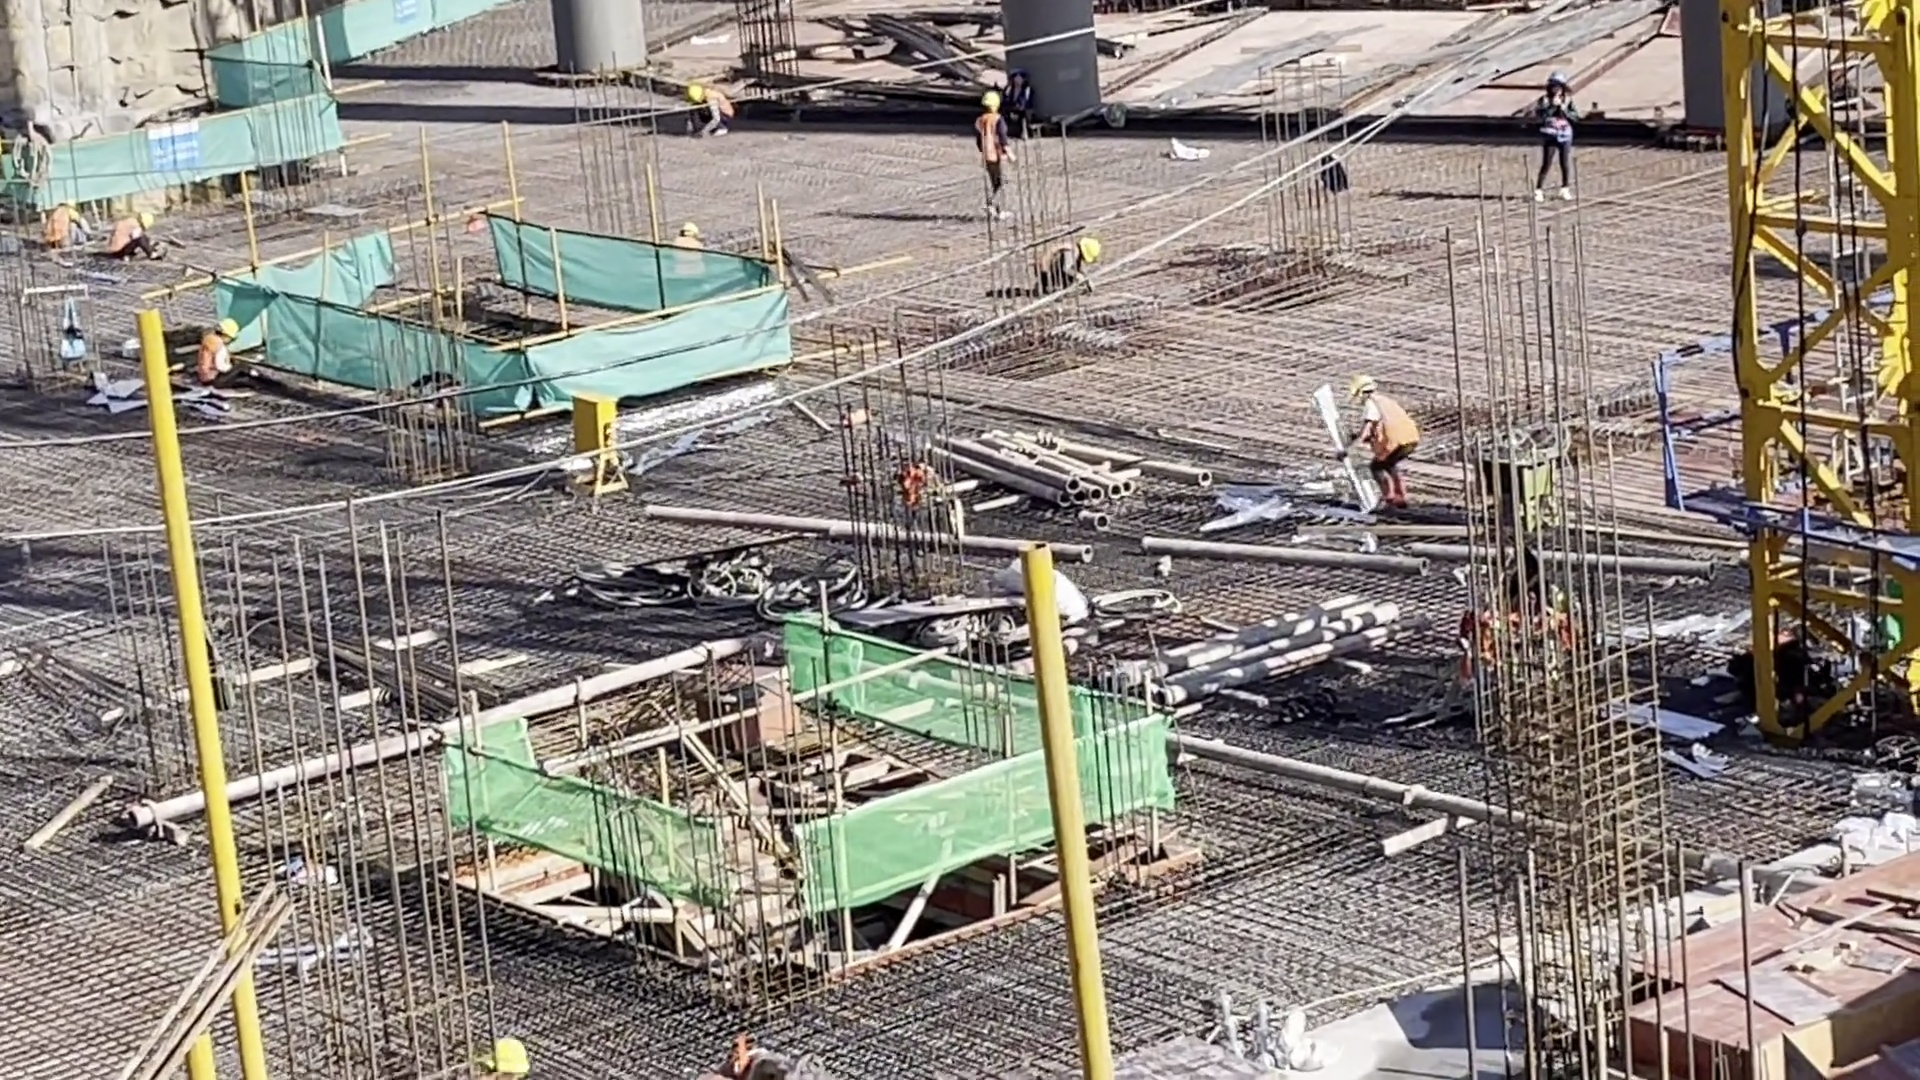helmet: (481, 1032, 535, 1080), (218, 317, 241, 339), (1349, 376, 1372, 395), (1082, 238, 1099, 263), (139, 208, 153, 228), (978, 95, 999, 107), (680, 220, 697, 235), (689, 85, 703, 100)
person: (1348, 380, 1423, 494), (975, 94, 1019, 212), (1538, 71, 1578, 201), (688, 80, 743, 143), (197, 317, 243, 386), (1038, 239, 1097, 287), (111, 208, 167, 258), (43, 201, 96, 249), (1001, 72, 1036, 132), (675, 220, 708, 275)
vest: (1367, 395, 1418, 462), (977, 115, 1006, 168), (1539, 95, 1572, 140), (196, 332, 225, 380), (1042, 242, 1074, 278), (113, 219, 138, 257), (705, 89, 736, 118), (48, 208, 69, 240)
